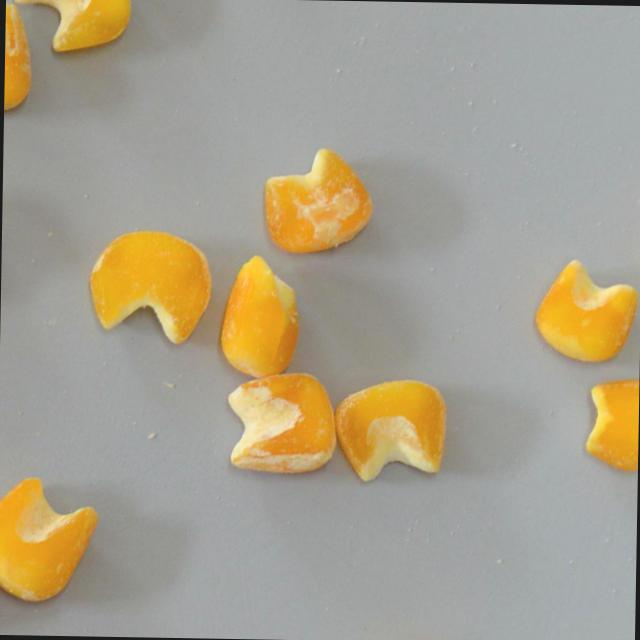dañado: (82, 226, 215, 348), (0, 472, 105, 606), (331, 372, 451, 489), (260, 143, 376, 258), (225, 366, 339, 478), (530, 255, 640, 366), (213, 251, 306, 381), (11, 0, 134, 56), (577, 374, 639, 477), (3, 0, 37, 119)
